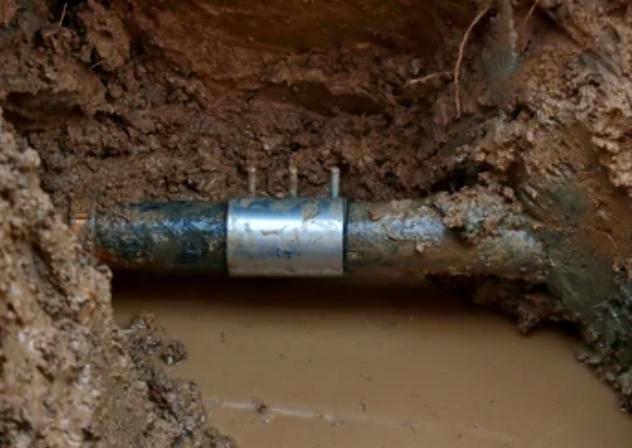water accumulation: (109, 275, 632, 448)
